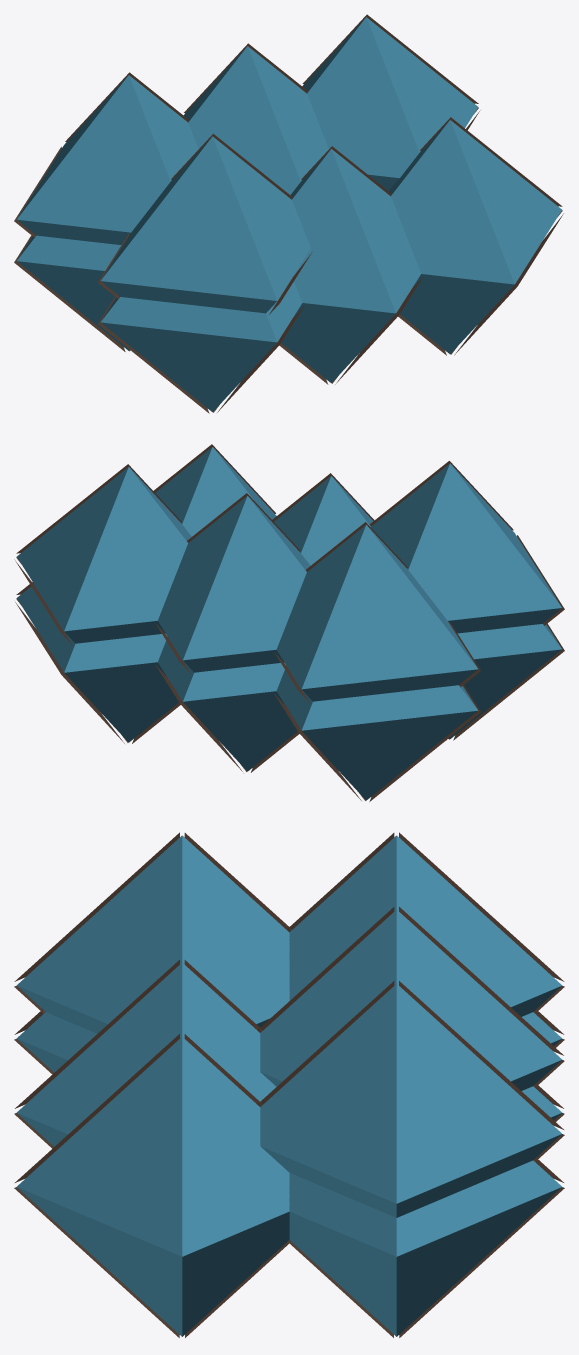
The model's file is prop_209.glb.
The picture shows the model from 3 angles, top to bottom: view 1: azimuth 30°, elevation 25°; view 2: azimuth 150°, elevation 25°; view 3: azimuth 270°, elevation 25°; orthographic projection. The views are drawn at different scales.
Visible parts, largest first — view 1: prop_209; view 2: prop_209; view 3: prop_209.
Boxes of the visible parts, left/top/right/bottom form: prop_209: left=14, top=14, right=563, bottom=413; prop_209: left=14, top=444, right=564, bottom=801; prop_209: left=14, top=832, right=564, bottom=1337.
Bounding box in the file's own units: 0.83 × 0.4769 × 0.6652.
